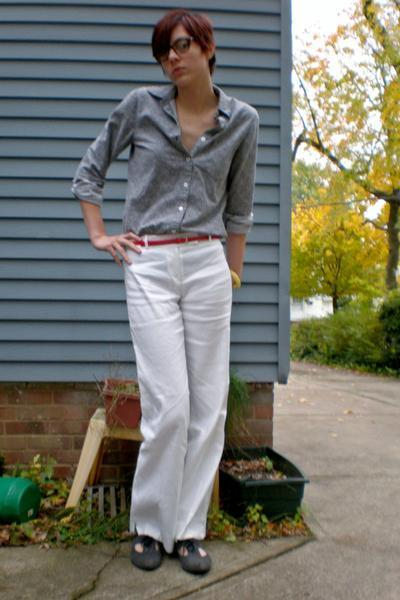pants: (125, 235, 231, 539)
shirt: (64, 84, 270, 242)
shoe: (132, 536, 218, 577)
